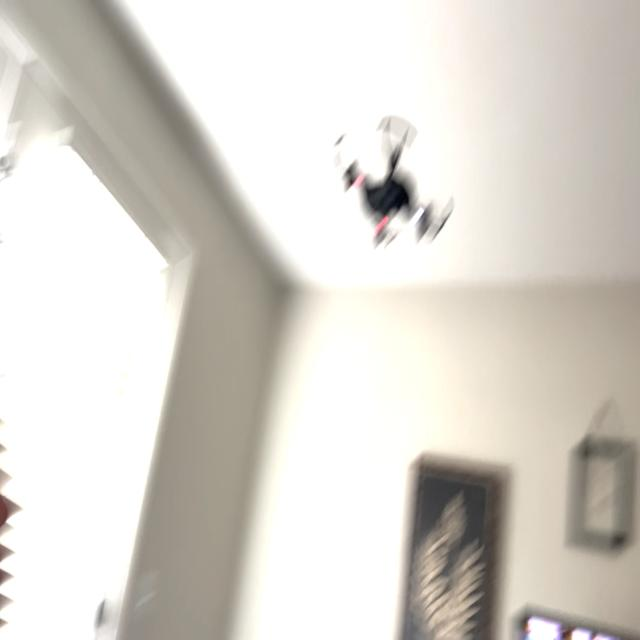drone: (322, 103, 464, 264)
